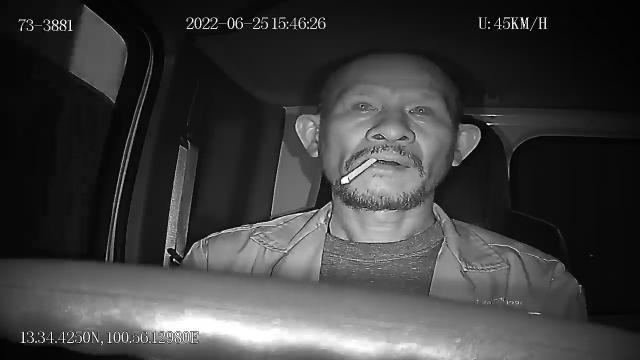SafeDriving: (345, 92, 384, 121), (400, 96, 440, 124)
Smoking: (340, 158, 376, 184)
